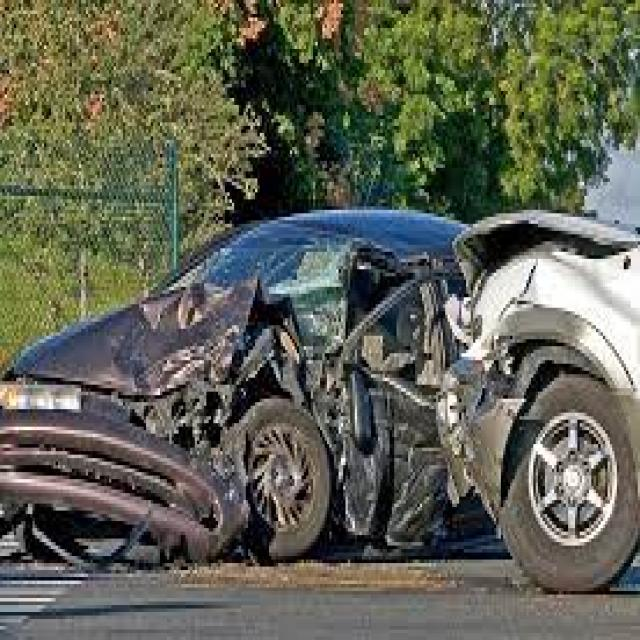severe: (0, 214, 431, 569), (457, 253, 628, 542)
